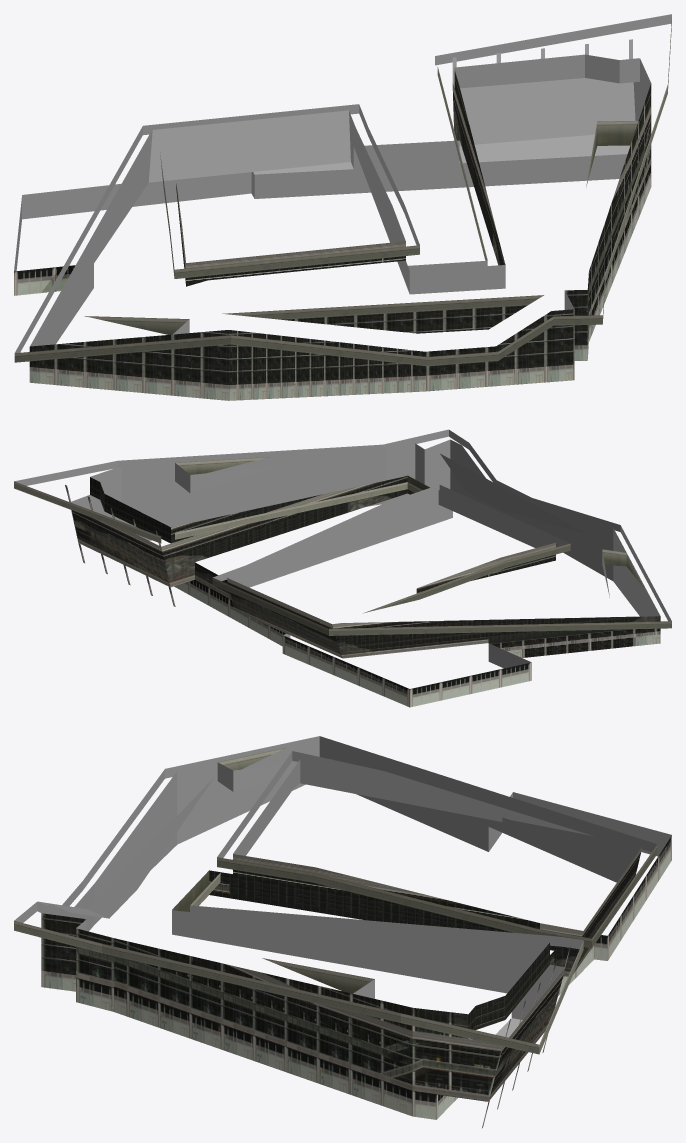
Rendered from convention_centre.glb.
The picture shows the model from 3 angles, top to bottom: view 1: azimuth 30°, elevation 25°; view 2: azimuth 150°, elevation 25°; view 3: azimuth 270°, elevation 25°; orthographic projection. The views are drawn at different scales.
Size of the model in its own units: 257 by 36.08 by 184.
28 materials, 25 textured.
